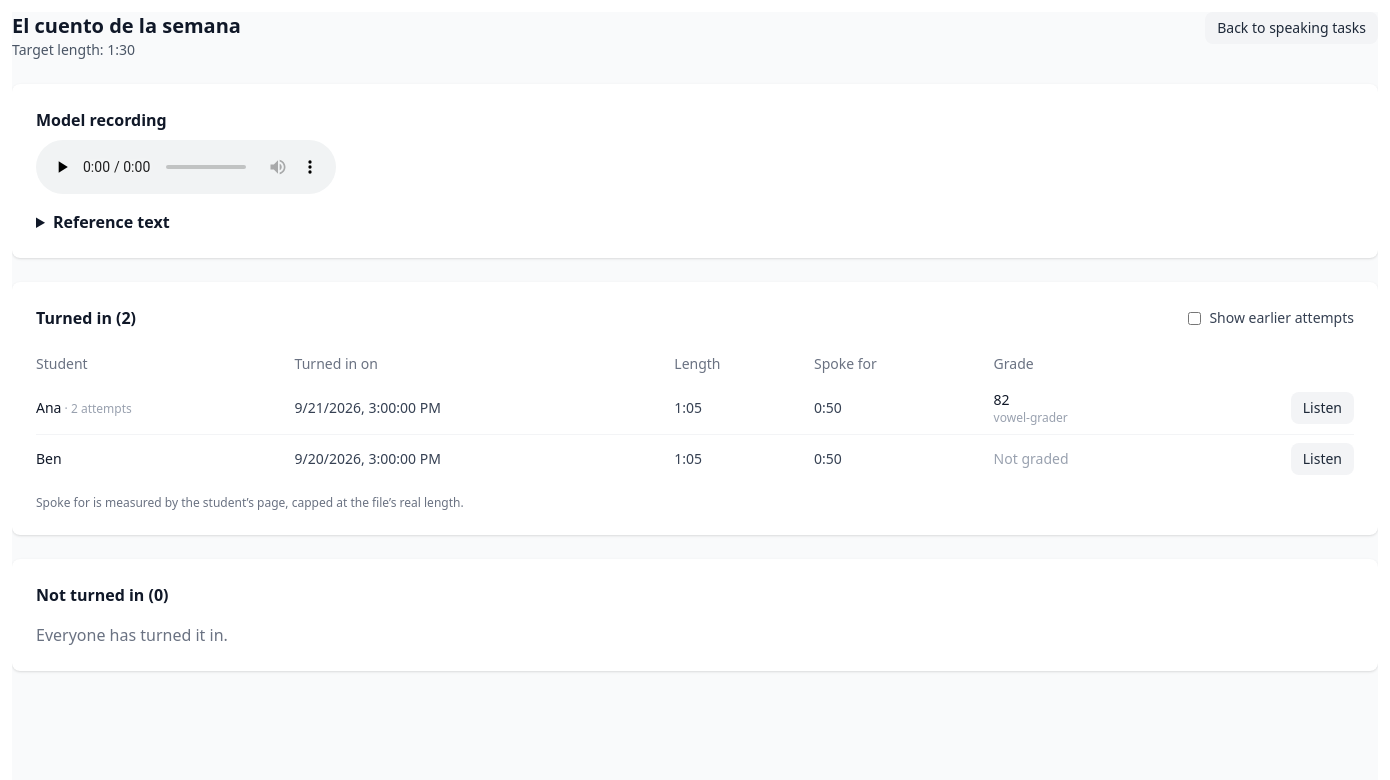
SpeakingReview › pretty-prints JSON grade details inside a details element
This screenshot has width=1390, height=780.
Click the button "Listen" in the row of "2 attempts" at (1322, 408), box [1291,392,1354,424]
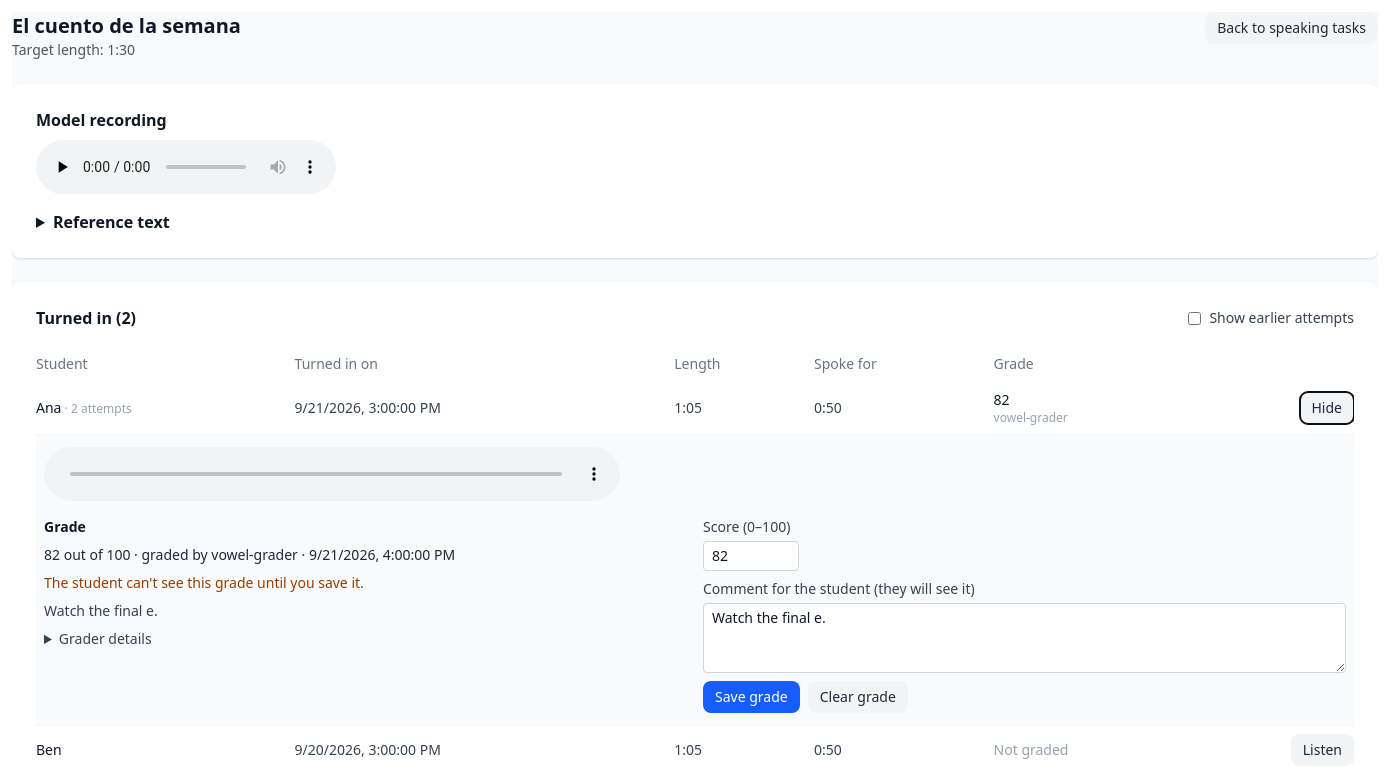
Result: the heading "Grader details" is shown at [59,629,152,648]
